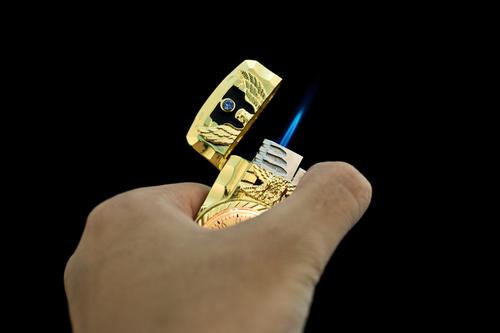fire: (273, 104, 314, 160)
